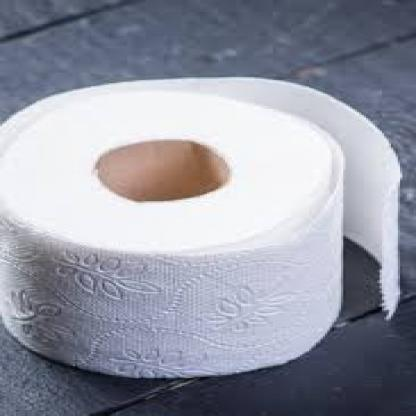tissue: (5, 92, 380, 377)
